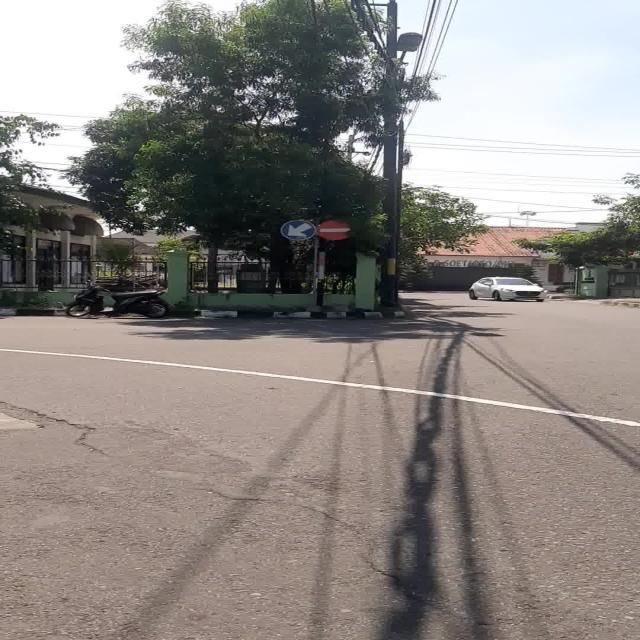Lajur Kiri: (280, 220, 316, 240)
